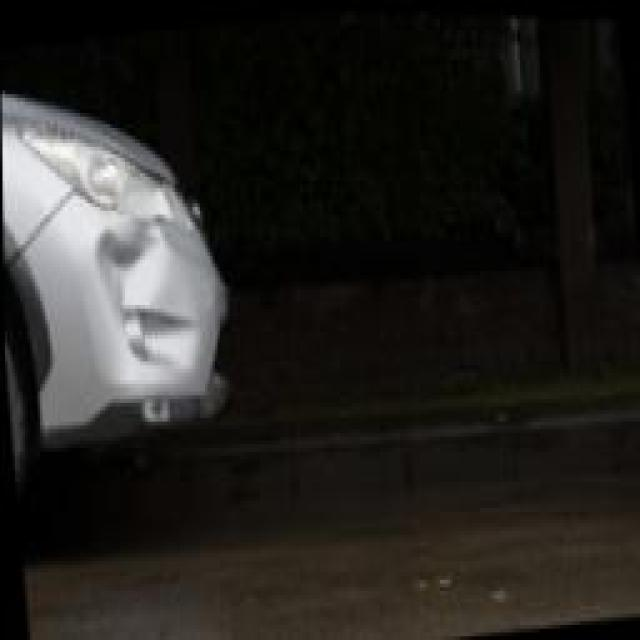Bumper: (75, 184, 220, 399)
